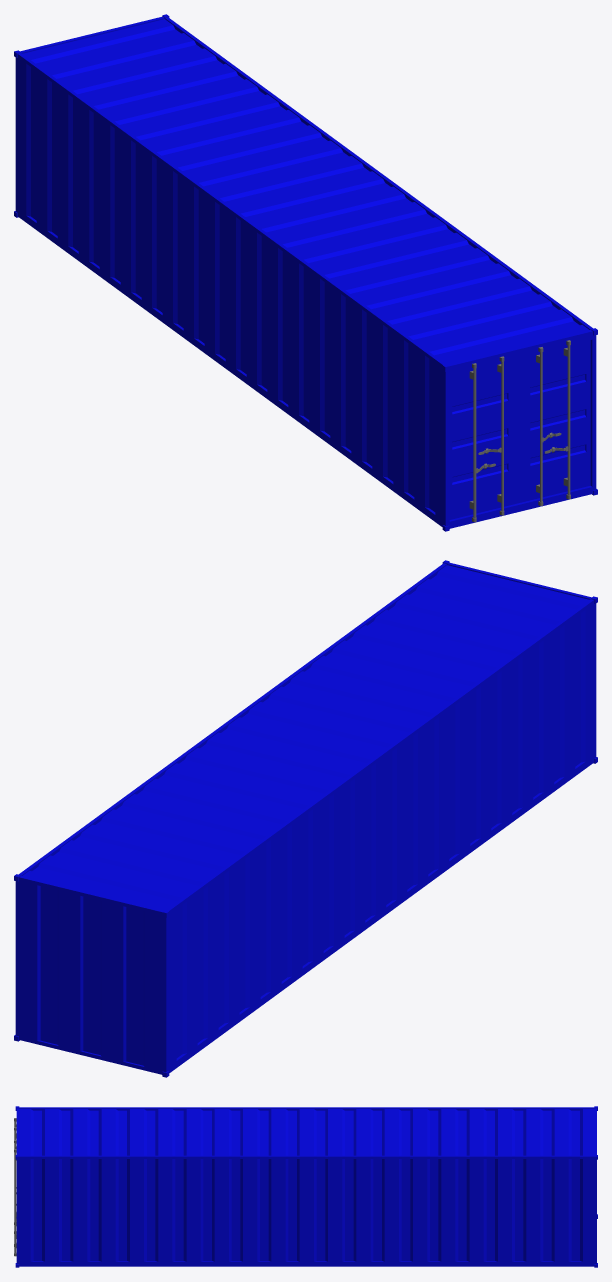
The model's file is СontainerCloseB.fbx.
3 views of the same model, one above another, from view 1: azimuth 30°, elevation 25°; view 2: azimuth 150°, elevation 25°; view 3: azimuth 270°, elevation 25° (orthographic). The views are drawn at different scales.
Parts seen in each view (by area): view 1: Сontainer Close B; view 2: Сontainer Close B; view 3: Сontainer Close B.
Boxes of the visible parts, x1,y1,x2,y2 form: Сontainer Close B: (14, 14, 597, 531); Сontainer Close B: (14, 560, 597, 1077); Сontainer Close B: (14, 1106, 597, 1267).
Size of the model in its own units: 247 by 255 by 1214.
